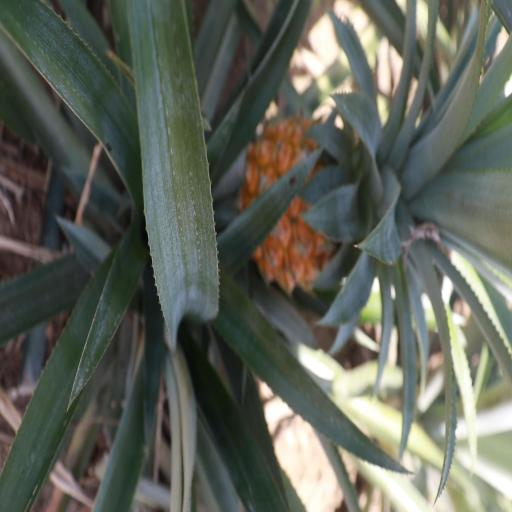Pineapple - v8 v1: (244, 113, 511, 294)
